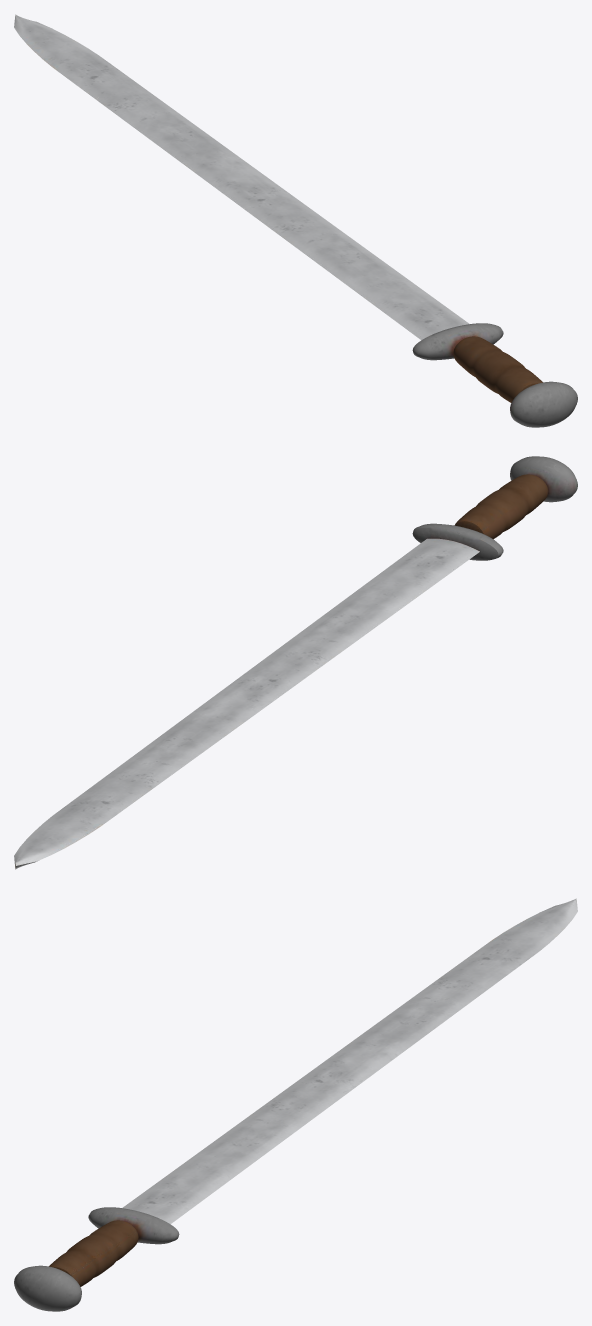
The model's file is short_cavalry_sword.glb.
3 views of the same model, one above another, from view 1: azimuth 30°, elevation 25°; view 2: azimuth 150°, elevation 25°; view 3: azimuth 330°, elevation 25° (orthographic).
Visible parts, largest first — view 1: short_cavalry_sword; view 2: short_cavalry_sword; view 3: short_cavalry_sword.
Part boxes in pixels (x1,y1,x2,y2): short_cavalry_sword: (14, 14, 577, 427); short_cavalry_sword: (14, 456, 577, 869); short_cavalry_sword: (14, 898, 577, 1311).
Size of the model in its own units: 0.0766 by 0.0332 by 0.806.
1 material, 1 textured.
